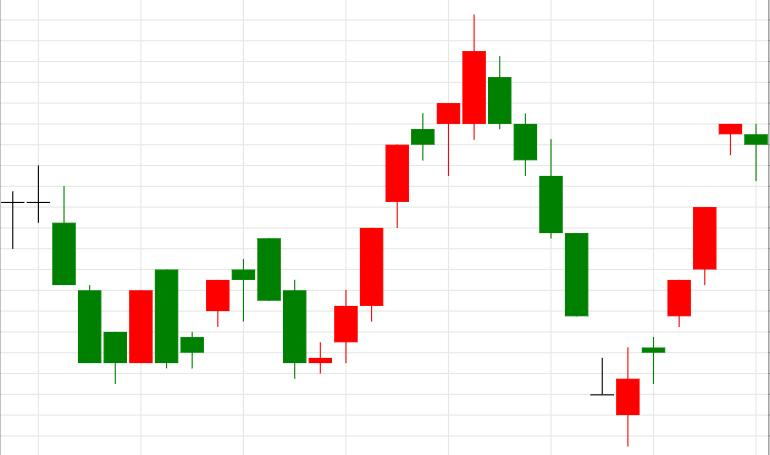three_black_crows_fall: (308, 14, 562, 373)
